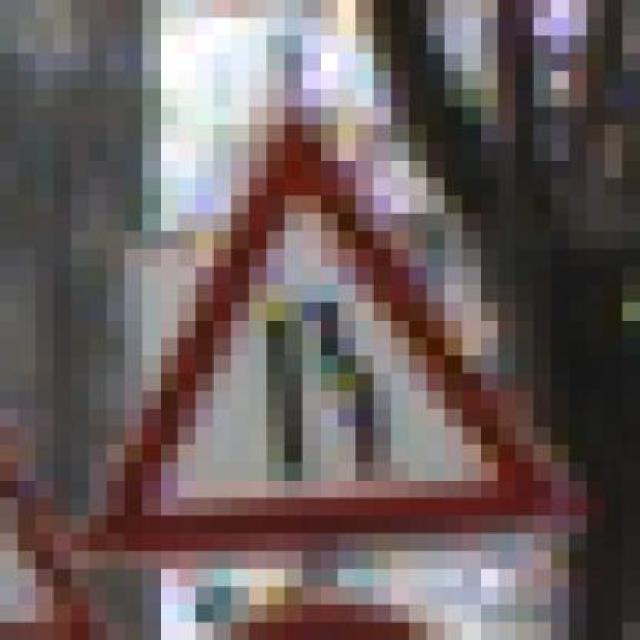-Road narrows on right: (53, 89, 604, 586)
